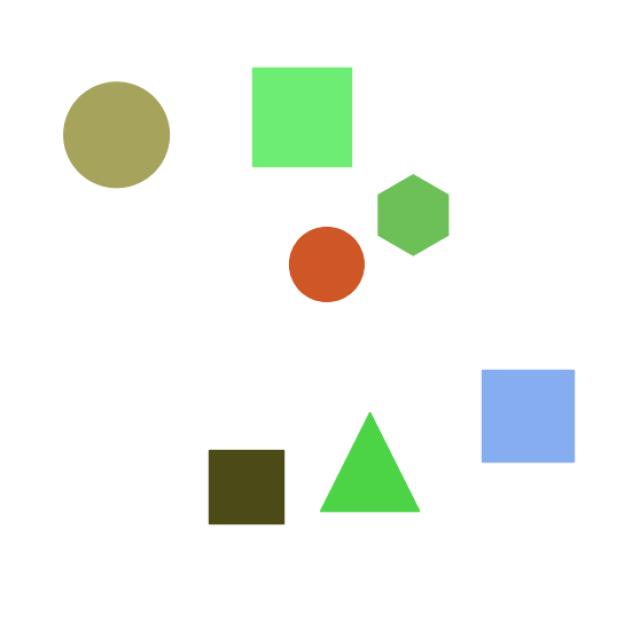Circle: (47, 70, 195, 205), (274, 204, 381, 324)
Hexagon: (367, 160, 466, 272)
Triangle: (316, 406, 463, 550)
square: (227, 56, 386, 184), (443, 352, 591, 481), (197, 431, 296, 551)
